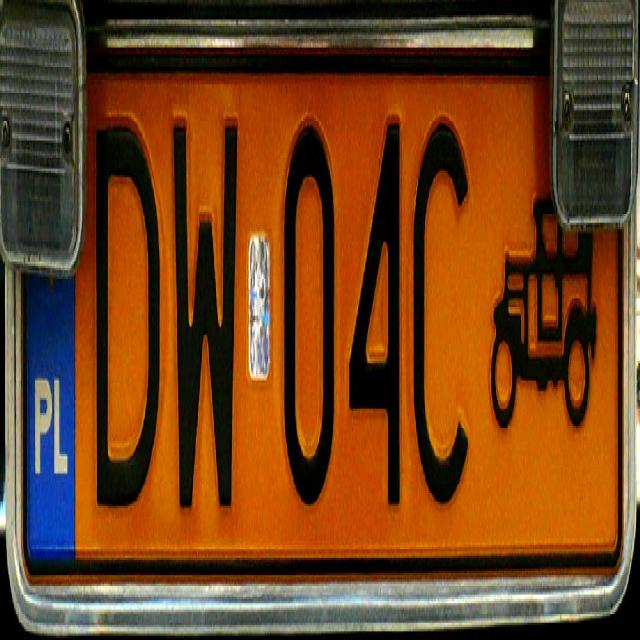pl_license_plate: (25, 69, 618, 562)
